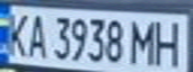3: (48, 12, 72, 61), (87, 15, 109, 63)
8: (103, 16, 130, 64)
9: (66, 14, 87, 62)
A: (21, 10, 51, 60)
H: (151, 16, 190, 68)
K: (3, 9, 33, 58)
M: (127, 16, 163, 66)
